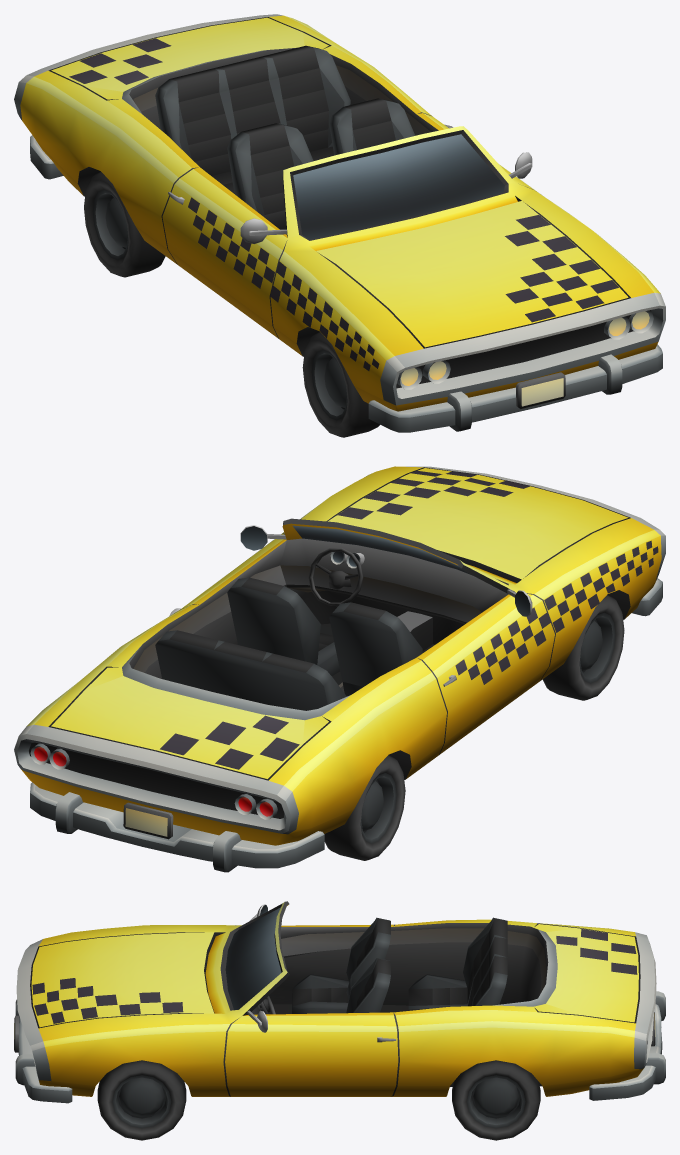
File: VHC0110008.FBX
The picture shows the model from 3 angles, top to bottom: view 1: azimuth 30°, elevation 25°; view 2: azimuth 150°, elevation 25°; view 3: azimuth 270°, elevation 25°; orthographic projection. The views are drawn at different scales.
Parts seen in each view (by area): view 1: smVHC0110008; view 2: smVHC0110008; view 3: smVHC0110008.
Part boxes in pixels (bbox=[...]): smVHC0110008: bbox=[14, 14, 665, 437]; smVHC0110008: bbox=[14, 466, 665, 872]; smVHC0110008: bbox=[14, 901, 665, 1140].
Bounding box in the file's own units: 1.63 × 1.05 × 3.9.
Materials: 1 (1 with a texture image).
